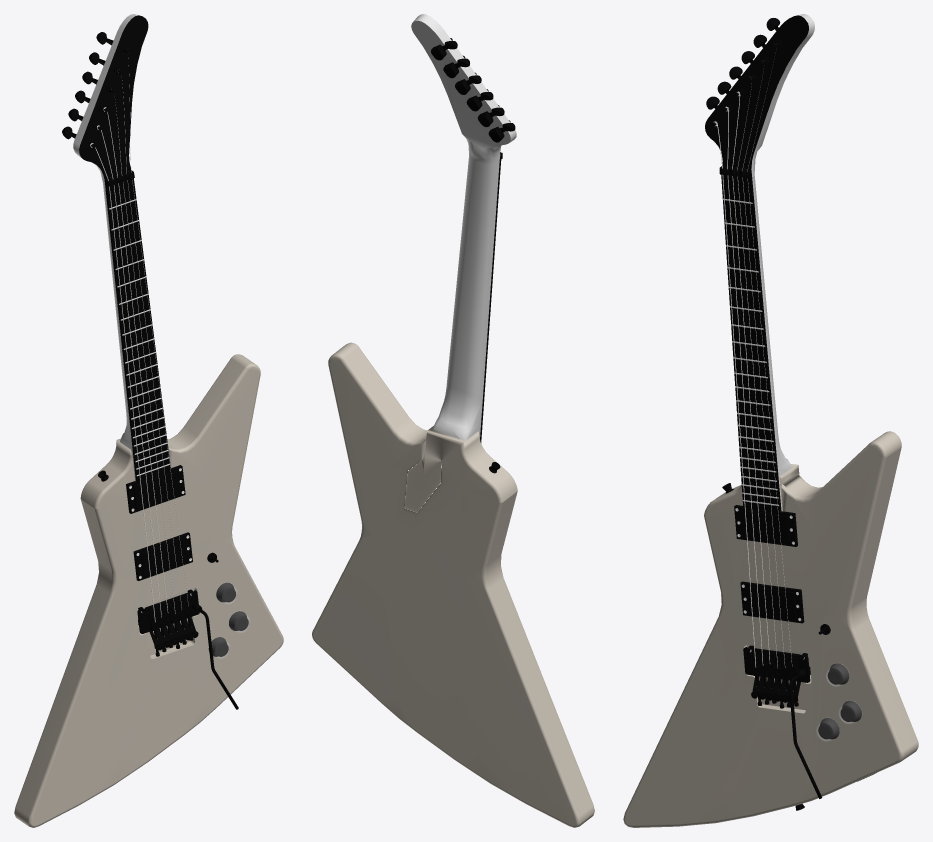
Rendered from gibson_explorer_stand.min.glb.
3 renders of one model, left to right at view 1: azimuth 30°, elevation 25°; view 2: azimuth 150°, elevation 25°; view 3: azimuth 330°, elevation 25°, orthographic. The views are drawn at different scales.
Visible parts, largest first — view 1: Object_111; view 2: Object_111; view 3: Object_111.
Part boxes in pixels (x1=…): Object_111: x1=14, y1=14, x2=283, y2=827; Object_111: x1=312, y1=14, x2=594, y2=827; Object_111: x1=623, y1=14, x2=918, y2=827.
Bounding box in the file's own units: 1.8 × 5.08 × 0.591.
